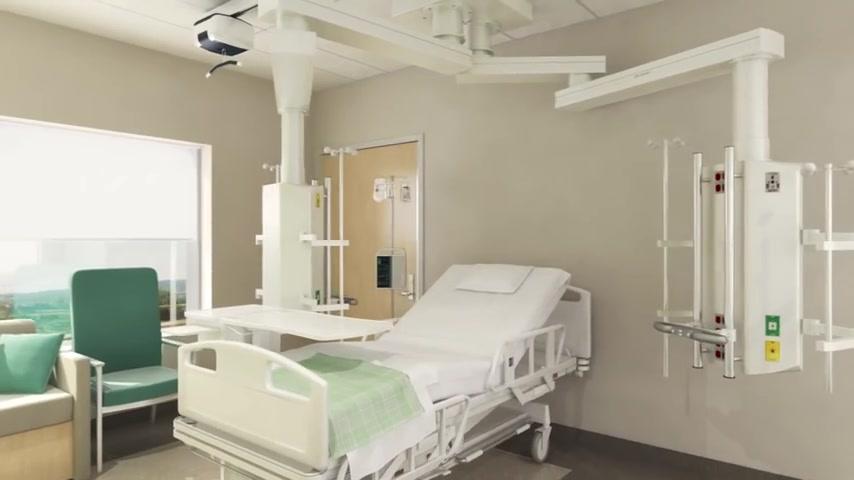bedrail: (340, 395, 471, 480), (487, 322, 569, 394)
chair: (61, 268, 199, 468)
foot_board: (176, 339, 336, 480)
hospital_bed: (177, 264, 593, 480)
infusion_pump: (374, 246, 411, 289)
iv_pole: (649, 137, 680, 373), (313, 146, 349, 329), (376, 172, 411, 321)
overbed_table: (183, 303, 394, 353)
sofa: (1, 317, 90, 480)
